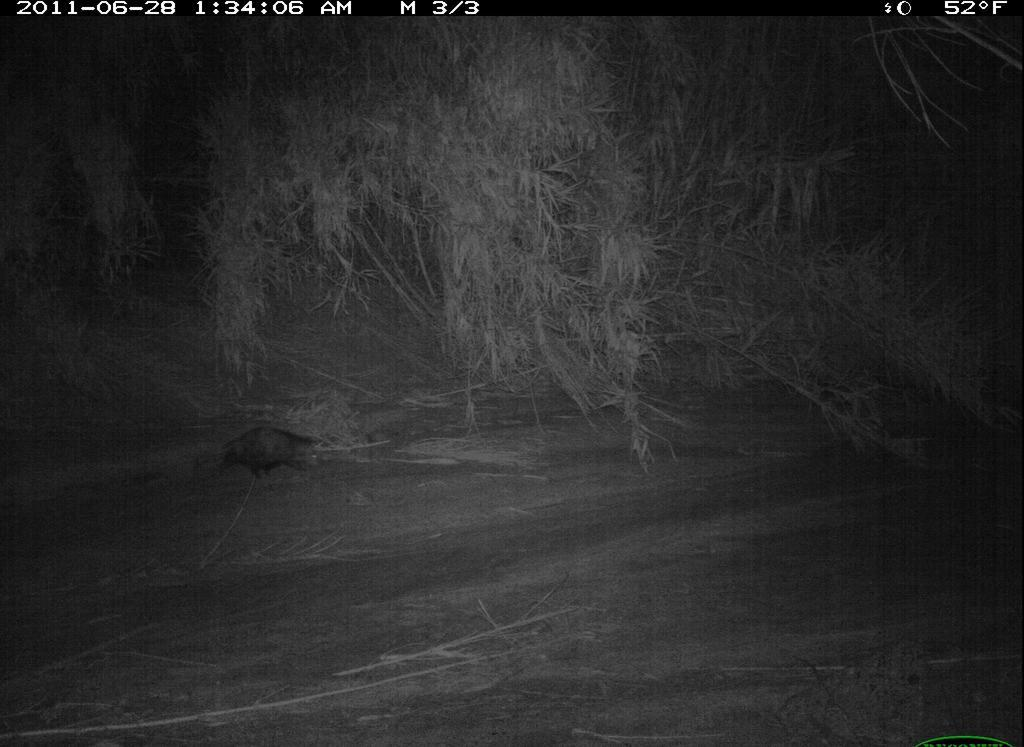opossum: (216, 423, 390, 483)
